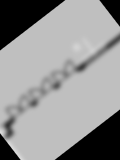double door: (3, 92, 34, 121), (27, 75, 56, 103), (49, 58, 78, 85)
wall: (103, 28, 120, 52), (75, 60, 89, 74)
window: (82, 42, 111, 68)
